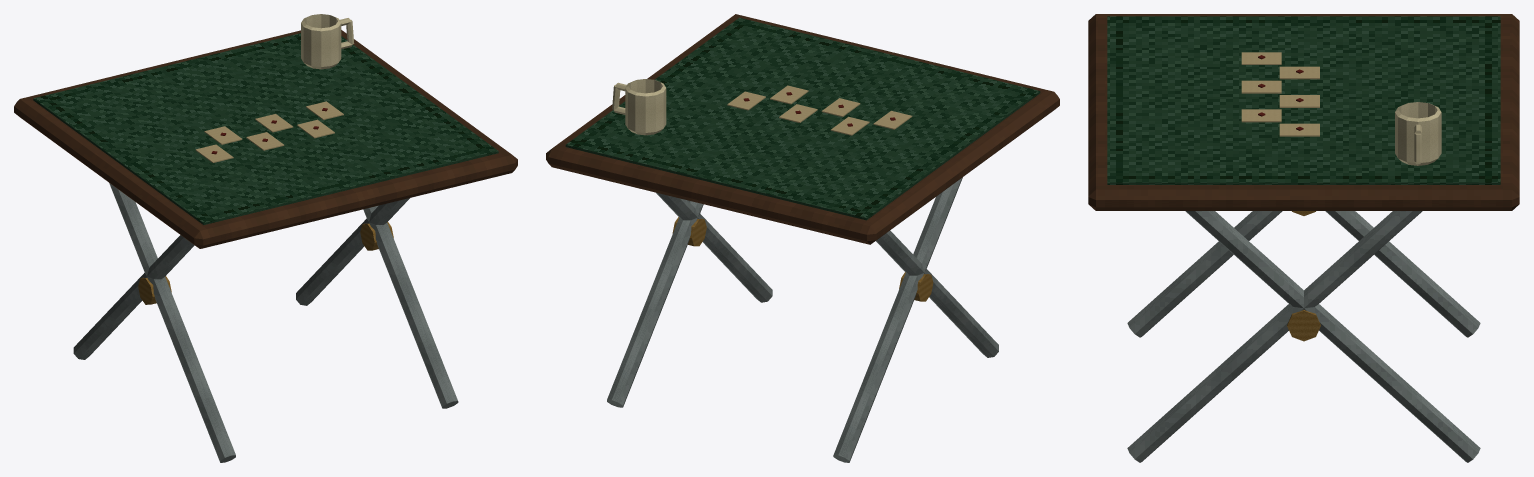
The model's file is level_lived_card_table.glb.
The picture shows the model from 3 angles, left to right: view 1: azimuth 30°, elevation 25°; view 2: azimuth 150°, elevation 25°; view 3: azimuth 270°, elevation 25°; orthographic projection. The views are drawn at different scales.
Parts seen in each view (by area): view 1: level_lived_card_table; view 2: level_lived_card_table; view 3: level_lived_card_table.
Boxes of the visible parts, x1,y1,x2,y2 form: level_lived_card_table: (14,14,517,462); level_lived_card_table: (546,14,1059,462); level_lived_card_table: (1088,14,1519,462).
Bounding box in the file's own units: 1.02 × 0.9078 × 1.02.
7 materials, 7 textured.
